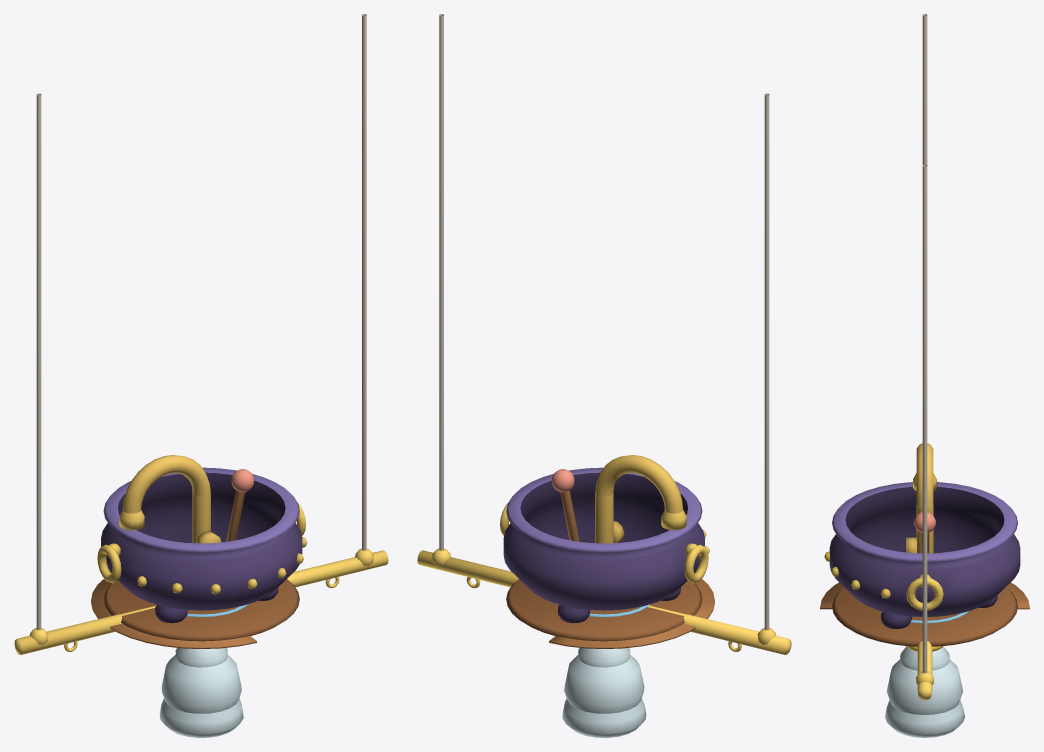
The model's file is lab_potion.glb.
3 views of the same model, side by side, from view 1: azimuth 30°, elevation 25°; view 2: azimuth 150°, elevation 25°; view 3: azimuth 270°, elevation 25° (orthographic). The views are drawn at different scales.
Parts seen in each view (by area): view 1: pot, rail, tap, glass_red, glass_blue, lid, ladle, glass_yellow; view 2: pot, rail, tap, glass_red, glass_blue, lid, ladle, glass_yellow; view 3: pot, rail, glass_red, glass_blue, tap, glass_yellow, lid, ladle.
Part boxes in pixels (bbox=[...]): pot: bbox=[97, 467, 307, 641]; rail: bbox=[14, 14, 388, 654]; tap: bbox=[119, 455, 221, 543]; glass_red: bbox=[161, 654, 241, 713]; glass_blue: bbox=[159, 698, 243, 737]; lid: bbox=[91, 579, 256, 648]; ladle: bbox=[226, 469, 253, 541]; glass_yellow: bbox=[175, 648, 227, 667]; pot: bbox=[500, 467, 709, 641]; rail: bbox=[417, 14, 791, 654]; tap: bbox=[595, 455, 686, 543]; glass_red: bbox=[564, 654, 644, 713]; glass_blue: bbox=[562, 698, 646, 737]; lid: bbox=[549, 579, 714, 648]; ladle: bbox=[552, 469, 579, 541]; glass_yellow: bbox=[578, 648, 630, 667]; pot: bbox=[824, 482, 1020, 646]; rail: bbox=[916, 14, 933, 700]; glass_red: bbox=[886, 659, 963, 714]; glass_blue: bbox=[885, 700, 964, 737]; tap: bbox=[906, 443, 936, 553]; glass_yellow: bbox=[900, 646, 949, 670]; lid: bbox=[820, 582, 1029, 609]; ladle: bbox=[914, 512, 935, 553].
Bounding box in the file's own units: 2.56 × 4.4 × 1.32.
